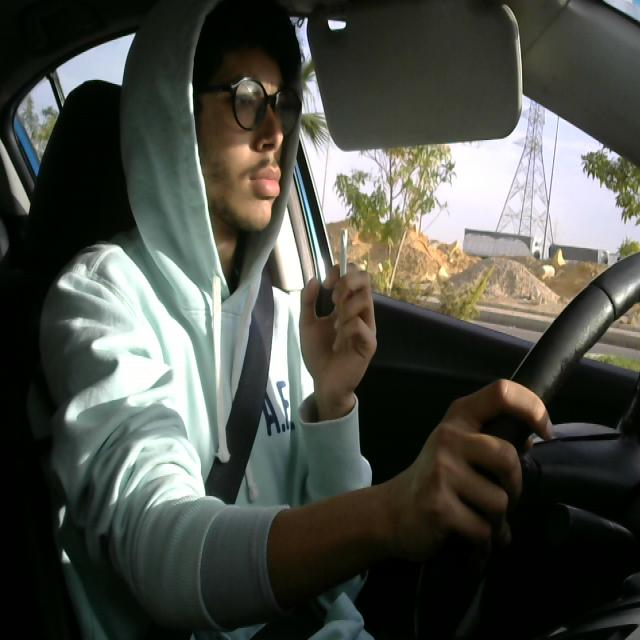smoking: (331, 222, 354, 305)
